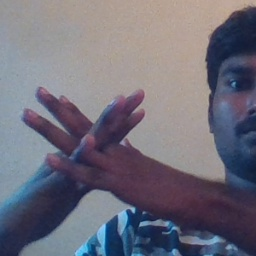W: (13, 73, 166, 231)
